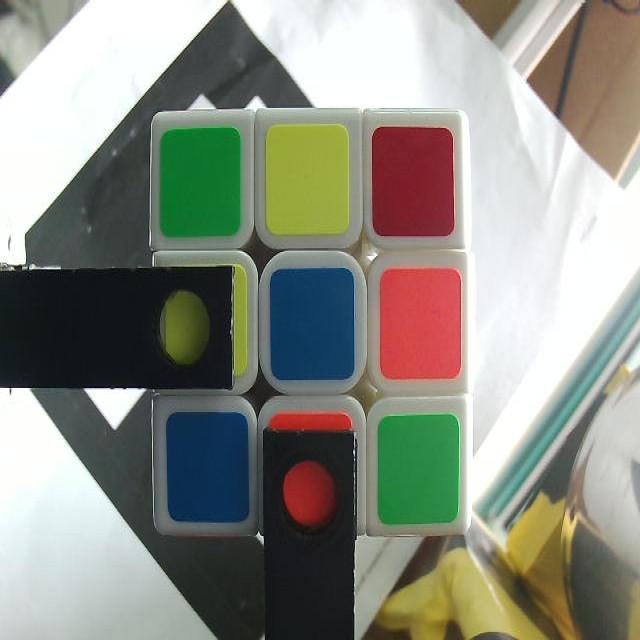b: (166, 413, 250, 520), (271, 270, 352, 378)
g: (160, 132, 243, 236), (380, 417, 457, 524)
o: (271, 416, 349, 525), (382, 269, 456, 374)
r: (375, 130, 452, 230)
y: (165, 270, 248, 370), (269, 128, 347, 229)
